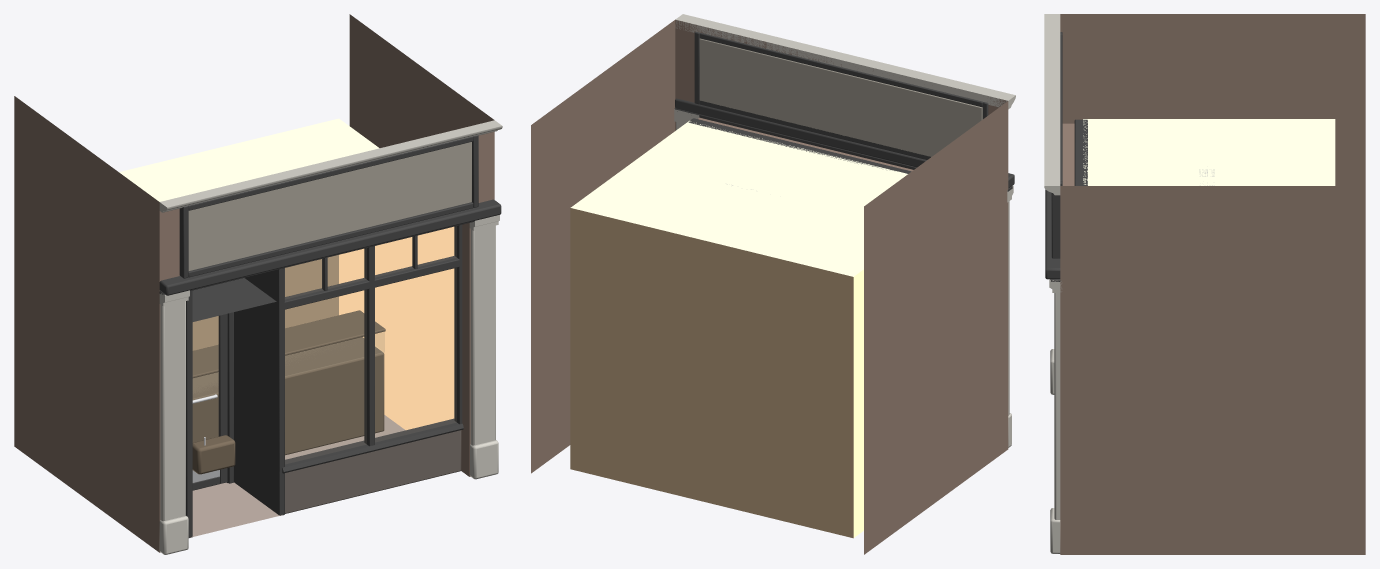
Rendered from shop_lit_4a.glb.
3 views of the same model, side by side, from view 1: azimuth 30°, elevation 25°; view 2: azimuth 150°, elevation 25°; view 3: azimuth 270°, elevation 25° (orthographic). The views are drawn at different scales.
Parts seen in each view (by area): view 1: shop_lit_4a; view 2: shop_lit_4a; view 3: shop_lit_4a.
Boxes of the visible parts, left/top/right/bottom form: shop_lit_4a: left=14, top=14, right=502, bottom=554; shop_lit_4a: left=531, top=14, right=1015, bottom=554; shop_lit_4a: left=1044, top=14, right=1365, bottom=554.
Bounding box in the file's own units: 4 × 4 × 3.16.
